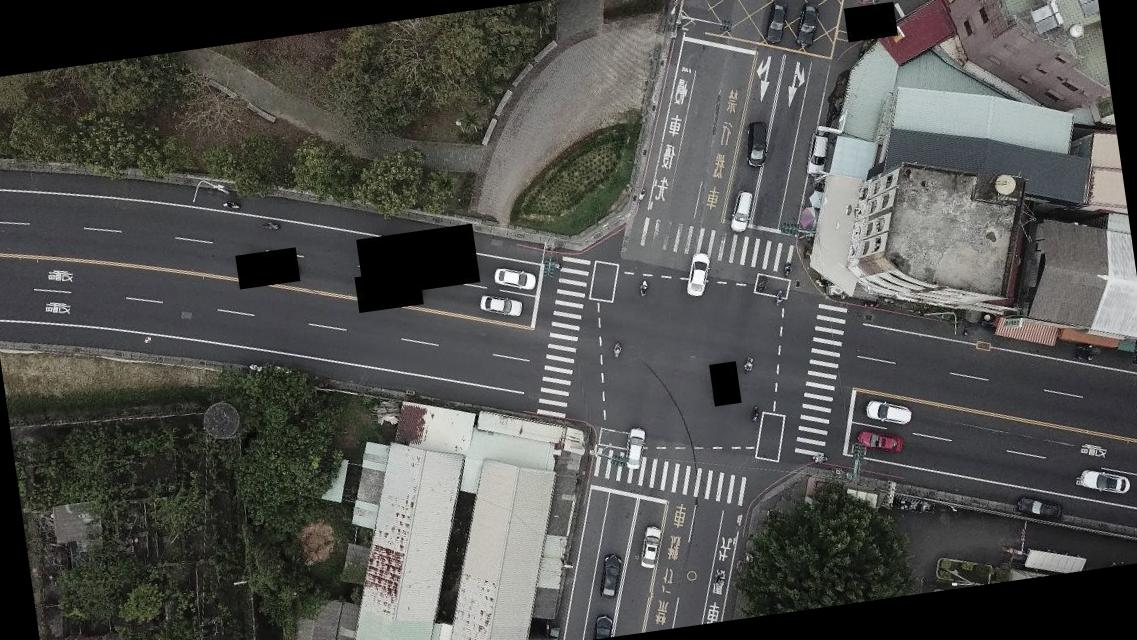vehicle: (1078, 464, 1134, 502), (864, 396, 914, 430), (680, 250, 714, 299), (1016, 492, 1064, 526), (634, 523, 668, 570), (492, 262, 538, 296), (800, 132, 834, 178), (790, 1, 823, 48), (594, 553, 626, 601), (856, 426, 904, 457), (760, 0, 793, 45), (478, 290, 524, 322), (742, 120, 771, 168), (620, 426, 650, 472), (726, 190, 757, 233), (591, 610, 617, 638)
